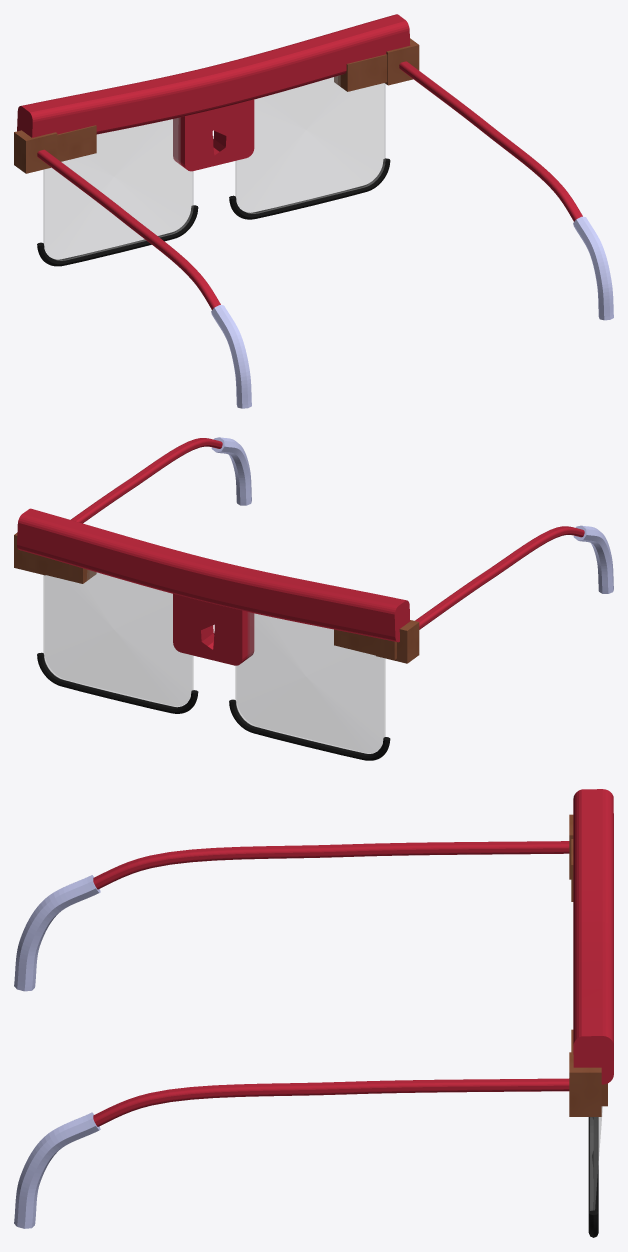
The model's file is Accessories_glasses__0012.glb.
The picture shows the model from 3 angles, top to bottom: view 1: azimuth 30°, elevation 25°; view 2: azimuth 150°, elevation 25°; view 3: azimuth 270°, elevation 25°; orthographic projection. The views are drawn at different scales.
Parts seen in each view (by area): view 1: front_frame::brow_bar, front_frame::lens_right, front_frame::lens_left, front_frame::keyhole_bridge, temple_left::arm_left, temple_right::arm_right, temple_right::ear_tip_right, temple_left::ear_tip_left, front_frame::lower_rim_right, temple_left::knuckle_left, front_frame::hinge_block_right, front_frame::lower_rim_left (+2 smaller); view 2: front_frame::brow_bar, front_frame::lens_left, front_frame::lens_right, front_frame::keyhole_bridge, temple_left::arm_left, temple_right::arm_right, front_frame::lower_rim_left, front_frame::lower_rim_right, front_frame::hinge_block_right, temple_right::ear_tip_right, temple_left::ear_tip_left, front_frame::hinge_block_left (+1 smaller); view 3: front_frame::brow_bar, temple_right::arm_right, temple_left::arm_left, temple_right::ear_tip_right, temple_left::ear_tip_left, temple_right::knuckle_right, front_frame::lower_rim_right, front_frame::lens_right.
Part boxes in pixels (bbox=[...]): front_frame::brow_bar: bbox=[17, 14, 410, 137]; front_frame::lens_right: bbox=[235, 75, 385, 213]; front_frame::lens_left: bbox=[43, 118, 193, 260]; front_frame::keyhole_bridge: bbox=[173, 99, 254, 171]; temple_left::arm_left: bbox=[37, 149, 220, 309]; temple_right::arm_right: bbox=[399, 61, 582, 221]; temple_right::ear_tip_right: bbox=[573, 216, 613, 320]; temple_left::ear_tip_left: bbox=[211, 305, 251, 408]; front_frame::lower_rim_right: bbox=[229, 158, 390, 219]; temple_left::knuckle_left: bbox=[14, 130, 57, 173]; front_frame::hinge_block_right: bbox=[334, 54, 387, 91]; front_frame::lower_rim_left: bbox=[37, 205, 198, 266]; front_frame::brow_bar: bbox=[17, 508, 409, 642]; front_frame::lens_left: bbox=[235, 612, 385, 753]; front_frame::lens_right: bbox=[43, 570, 193, 706]; front_frame::keyhole_bridge: bbox=[173, 593, 254, 665]; temple_left::arm_left: bbox=[415, 526, 584, 629]; temple_right::arm_right: bbox=[70, 438, 222, 523]; front_frame::lower_rim_left: bbox=[229, 699, 390, 760]; front_frame::lower_rim_right: bbox=[37, 652, 198, 713]; front_frame::hinge_block_right: bbox=[22, 551, 96, 583]; temple_right::ear_tip_right: bbox=[211, 437, 251, 505]; temple_left::ear_tip_left: bbox=[573, 525, 613, 593]; front_frame::hinge_block_left: bbox=[334, 629, 396, 659]; front_frame::brow_bar: bbox=[573, 789, 613, 1084]; temple_right::arm_right: bbox=[93, 1078, 569, 1126]; temple_left::arm_left: bbox=[93, 841, 569, 889]; temple_right::ear_tip_right: bbox=[14, 1112, 100, 1228]; temple_left::ear_tip_left: bbox=[14, 875, 100, 991]; temple_right::knuckle_right: bbox=[569, 1052, 601, 1116]; front_frame::lower_rim_right: bbox=[588, 1117, 598, 1237]; front_frame::lens_right: bbox=[590, 1106, 602, 1210].
Bounding box in the file's own units: 0.1504 × 0.0608 × 0.1478.
Materials: 5 (2 with a texture image).
